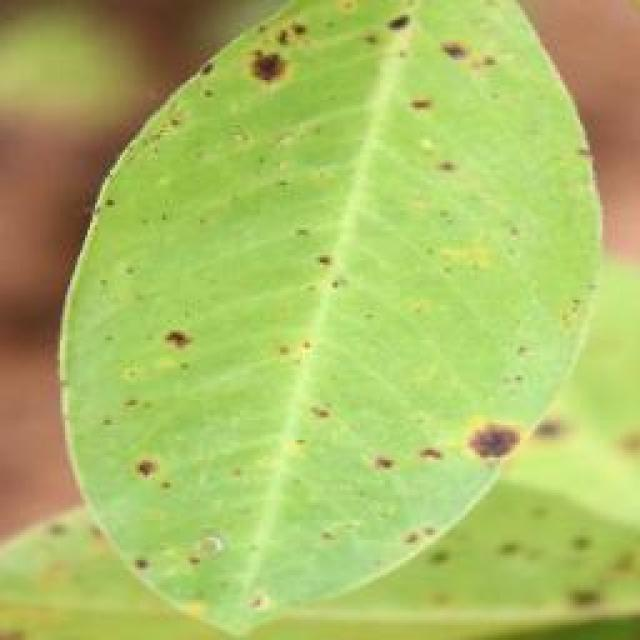Yellowish: (75, 16, 583, 570)
